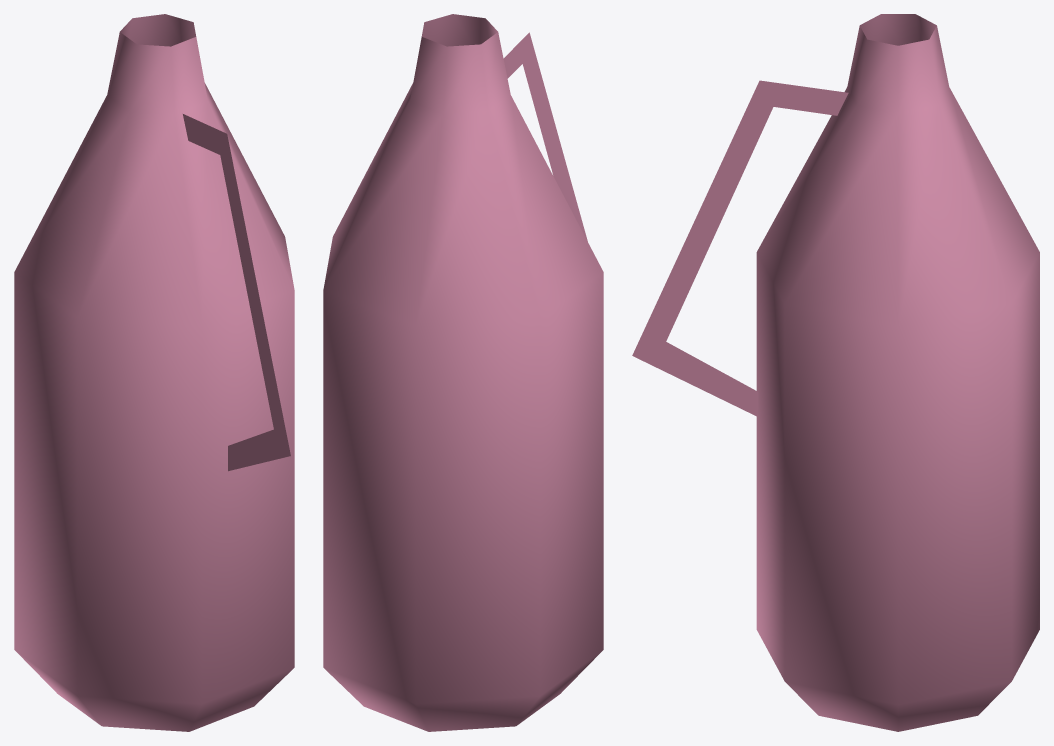
File: bottle.obj
The picture shows the model from 3 angles, left to right: view 1: azimuth 30°, elevation 25°; view 2: azimuth 150°, elevation 25°; view 3: azimuth 270°, elevation 25°; orthographic projection.
Visible parts, largest first — view 1: Cylinder03; view 2: Cylinder03; view 3: Cylinder03.
Part boxes in pixels (left/top/right/bottom): Cylinder03: left=14, top=14, right=294, bottom=731; Cylinder03: left=323, top=14, right=603, bottom=731; Cylinder03: left=632, top=14, right=1039, bottom=731.
Bounding box in the file's own units: 20.94 × 55.24 × 30.93.
